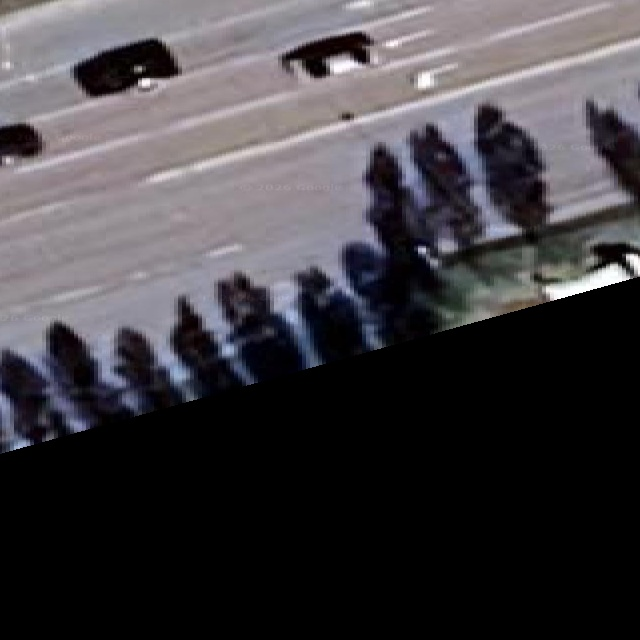car: (72, 38, 180, 96), (280, 32, 376, 78), (0, 123, 43, 165)
